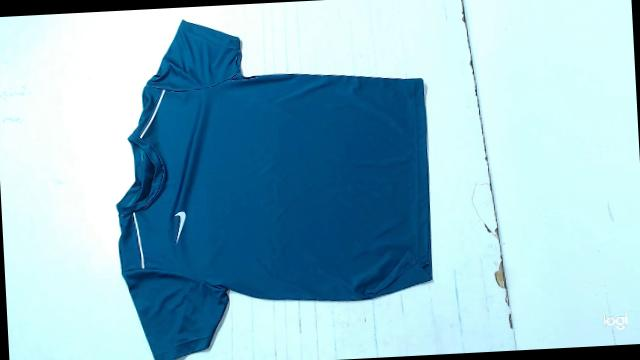new-garment: (116, 20, 431, 360)
